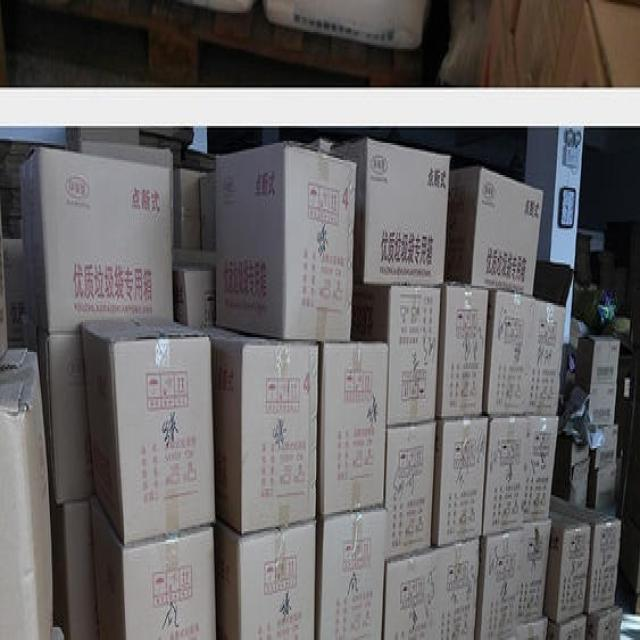box: (81, 322, 213, 544), (19, 149, 174, 331), (216, 145, 356, 339), (200, 329, 317, 531), (0, 350, 63, 638), (331, 139, 450, 284), (93, 503, 216, 640), (446, 169, 543, 294), (354, 288, 440, 427), (216, 523, 315, 638), (321, 343, 387, 512), (384, 538, 479, 638), (317, 510, 387, 638), (48, 335, 95, 506), (555, 501, 621, 614), (385, 422, 438, 557), (435, 418, 489, 546), (438, 288, 489, 416), (485, 292, 535, 412), (484, 418, 529, 538), (476, 529, 524, 640), (545, 510, 592, 623), (64, 503, 99, 638), (529, 301, 566, 414), (524, 414, 559, 523), (517, 518, 552, 625), (576, 339, 621, 422), (82, 141, 173, 171), (174, 171, 208, 247), (175, 265, 216, 326), (596, 425, 618, 506), (0, 205, 8, 358), (588, 604, 622, 638), (548, 614, 587, 638), (517, 617, 548, 640)
